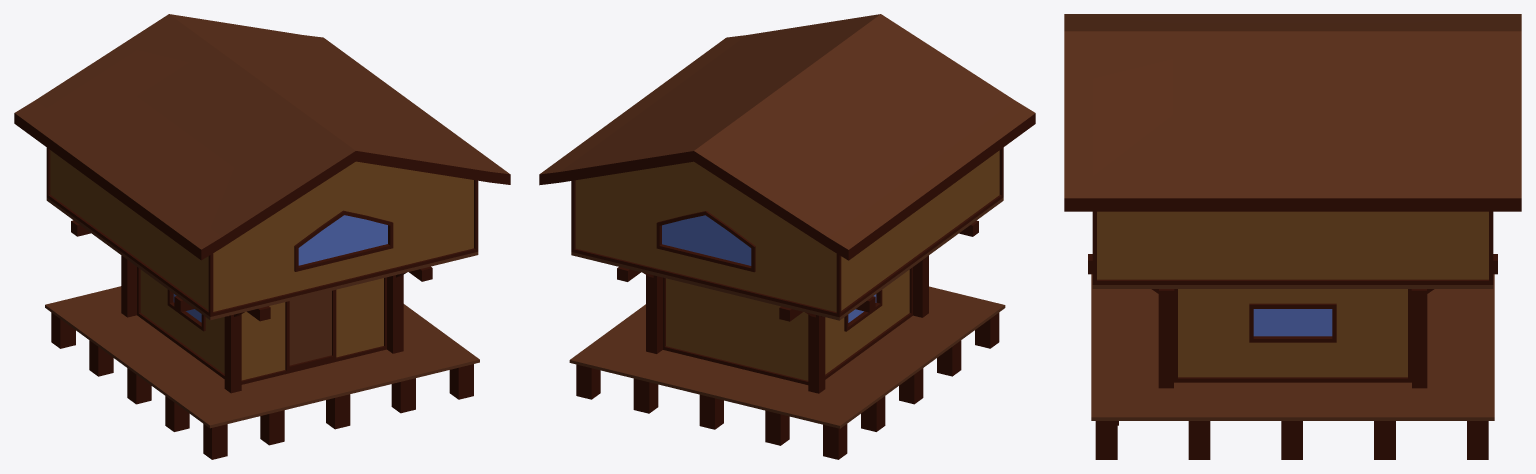
Rendered from Casa4.fbx.
3 views of the same model, side by side, from view 1: azimuth 30°, elevation 25°; view 2: azimuth 150°, elevation 25°; view 3: azimuth 270°, elevation 25° (orthographic). The views are drawn at different scales.
Parts seen in each view (by area): view 1: Casa4; view 2: Casa4; view 3: Casa4.
Part boxes in pixels (bbox=[...]): Casa4: bbox=[14, 14, 510, 459]; Casa4: bbox=[539, 14, 1035, 459]; Casa4: bbox=[1064, 14, 1521, 459].
Size of the model in its own units: 1505 by 1333 by 1576.
